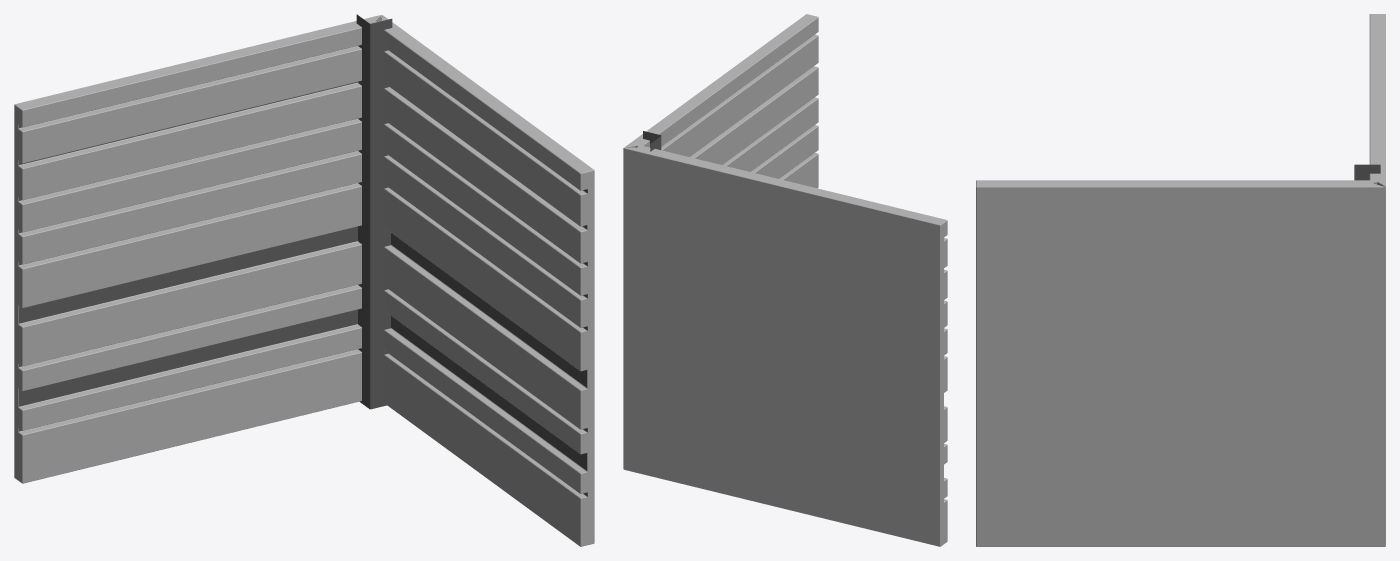
File: Wall_Corner.glb
3 renders of one model, left to right at view 1: azimuth 30°, elevation 25°; view 2: azimuth 150°, elevation 25°; view 3: azimuth 270°, elevation 25°, orthographic. The views are drawn at different scales.
Visible parts, largest first — view 1: Wall_Corner; view 2: Wall_Corner; view 3: Wall_Corner.
Boxes of the visible parts, x1,y1,x2,y2 form: Wall_Corner: [14, 14, 594, 546]; Wall_Corner: [623, 14, 947, 546]; Wall_Corner: [976, 14, 1385, 546].
Size of what is drawn, in the model's own units: 4.13 by 4.13 by 4.12.
Materials: 1 (1 with a texture image).
